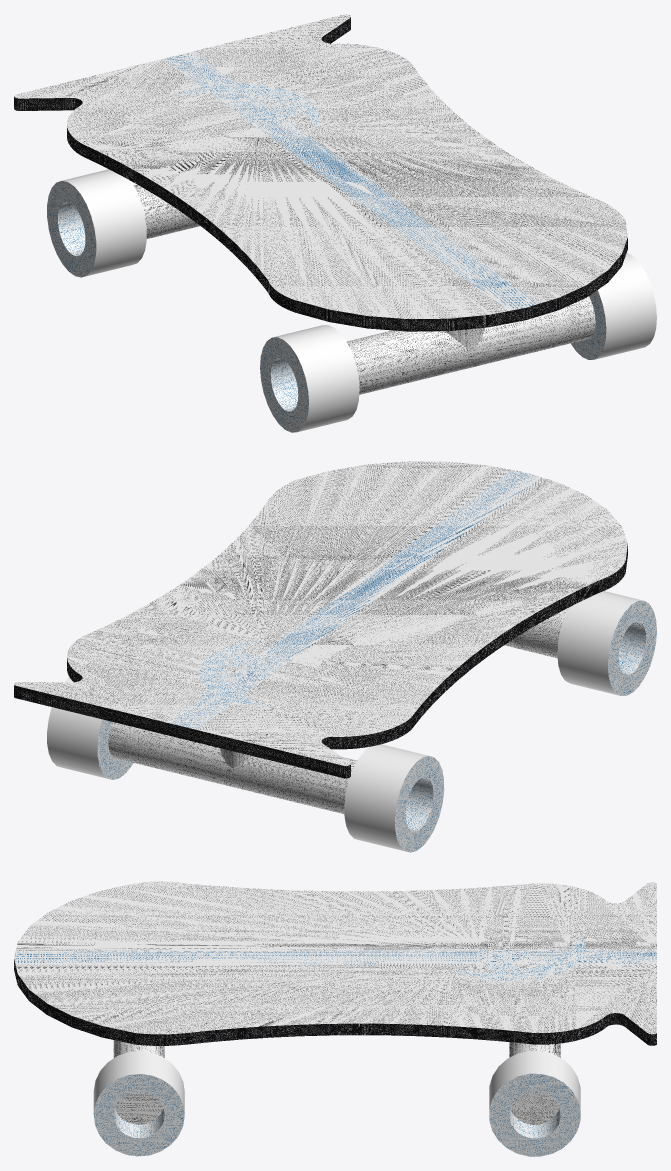
3 views of the same model, one above another, from view 1: azimuth 30°, elevation 25°; view 2: azimuth 150°, elevation 25°; view 3: azimuth 270°, elevation 25° (orthographic). The views are drawn at different scales.
Parts seen in each view (by area): view 1: mesh1_mesh1-geometry, mesh4_mesh4-geometry, mesh5_mesh5-geometry; view 2: mesh1_mesh1-geometry, mesh5_mesh5-geometry, mesh4_mesh4-geometry; view 3: mesh1_mesh1-geometry, mesh5_mesh5-geometry, mesh4_mesh4-geometry.
Part boxes in pixels (bbox=[...]): mesh1_mesh1-geometry: bbox=[14, 14, 627, 331]; mesh4_mesh4-geometry: bbox=[260, 253, 656, 432]; mesh5_mesh5-geometry: bbox=[47, 169, 199, 277]; mesh1_mesh1-geometry: bbox=[14, 461, 627, 778]; mesh5_mesh5-geometry: bbox=[47, 677, 444, 852]; mesh4_mesh4-geometry: bbox=[504, 591, 656, 695]; mesh1_mesh1-geometry: bbox=[14, 881, 656, 1045]; mesh5_mesh5-geometry: bbox=[489, 1042, 580, 1156]; mesh4_mesh4-geometry: bbox=[93, 1040, 184, 1156].
Size of the model in its own units: 0.4944 by 0.1747 by 0.8515.
